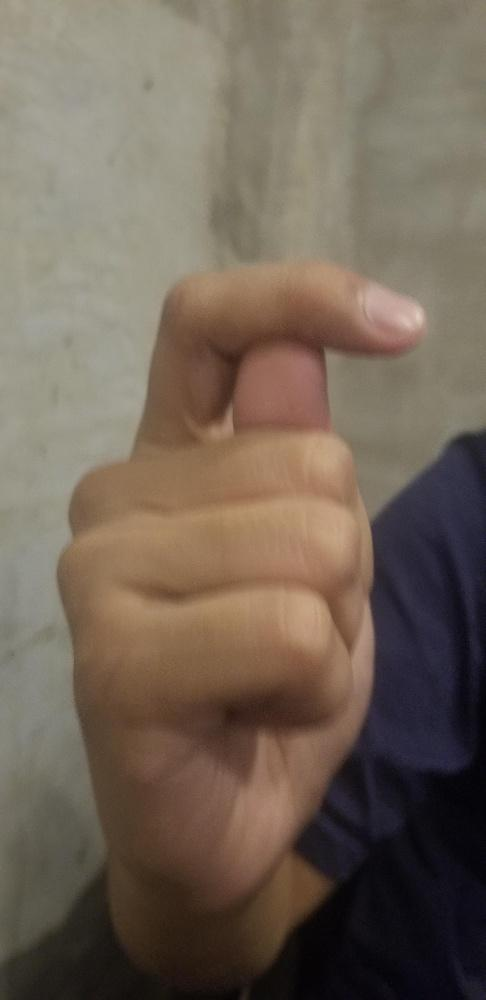t: (54, 257, 426, 901)
